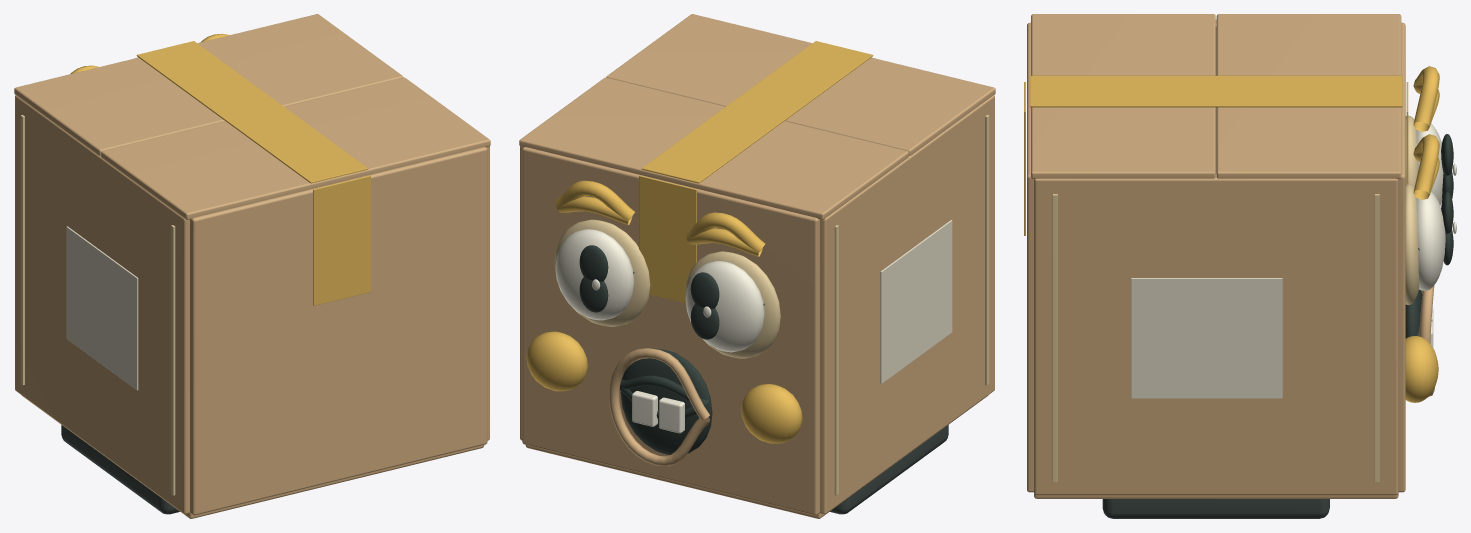
The model's file is hopper.glb.
3 renders of one model, left to right at view 1: azimuth 30°, elevation 25°; view 2: azimuth 150°, elevation 25°; view 3: azimuth 270°, elevation 25°, orthographic. The views are drawn at different scales.
Parts seen in each view (by area): view 1: Surface Kraft cardboard.003, Folded lid.007, Folded lid.006, Surface Ivory paper.003, Surface Hopper ochre.003, Lid tape.007, Lid tape.006, Surface Parcel tape.007, Surface Charcoal rubber.001; view 2: Surface Kraft cardboard.003, Folded lid.006, Folded lid.007, Surface Eye ivory.007, Surface Ivory paper.003, Surface Hopper ochre.002, Surface Hopper ochre.003, Lid tape.006, Lid tape.007, Surface Parcel tape.008, Surface Printed ink.007, Mouth lip.002 (+6 smaller); view 3: Surface Kraft cardboard.003, Folded lid.006, Folded lid.007, Surface Ivory paper.003, Lid tape.006, Lid tape.007, Surface Charcoal rubber.001, Surface Hopper ochre.002, Surface Parcel tape.007, Surface Eye ivory.007, Surface Parcel tape.008, Surface Printed ink.009 (+4 smaller).
Part boxes in pixels (bbox=[...]): Surface Kraft cardboard.003: bbox=[15, 95, 489, 518]; Folded lid.007: bbox=[101, 77, 490, 220]; Folded lid.006: bbox=[14, 14, 403, 155]; Surface Ivory paper.003: bbox=[66, 226, 138, 390]; Surface Hopper ochre.003: bbox=[135, 57, 370, 305]; Lid tape.007: bbox=[223, 104, 367, 183]; Lid tape.006: bbox=[136, 41, 280, 119]; Surface Parcel tape.007: bbox=[20, 115, 175, 495]; Surface Charcoal rubber.001: bbox=[61, 425, 179, 514]; Surface Kraft cardboard.003: bbox=[520, 95, 994, 518]; Folded lid.006: bbox=[519, 77, 908, 220]; Folded lid.007: bbox=[606, 14, 995, 155]; Surface Eye ivory.007: bbox=[555, 229, 764, 433]; Surface Ivory paper.003: bbox=[880, 220, 952, 383]; Surface Hopper ochre.002: bbox=[526, 180, 802, 443]; Surface Hopper ochre.003: bbox=[639, 57, 874, 303]; Lid tape.006: bbox=[642, 104, 785, 183]; Lid tape.007: bbox=[729, 41, 873, 119]; Surface Parcel tape.008: bbox=[554, 219, 780, 358]; Surface Printed ink.007: bbox=[620, 271, 764, 454]; Mouth lip.002: bbox=[609, 348, 709, 466]; Surface Kraft cardboard.003: bbox=[1027, 19, 1405, 498]; Folded lid.006: bbox=[1216, 14, 1401, 179]; Folded lid.007: bbox=[1031, 14, 1215, 179]; Surface Ivory paper.003: bbox=[1131, 278, 1282, 398]; Lid tape.006: bbox=[1216, 75, 1402, 107]; Lid tape.007: bbox=[1030, 75, 1216, 107]; Surface Charcoal rubber.001: bbox=[1102, 499, 1329, 518]; Surface Hopper ochre.002: bbox=[1405, 66, 1439, 402]; Surface Parcel tape.007: bbox=[1052, 194, 1379, 482]; Surface Eye ivory.007: bbox=[1416, 123, 1456, 347]; Surface Parcel tape.008: bbox=[1405, 115, 1419, 304]; Surface Printed ink.009: bbox=[1416, 134, 1453, 336].
Size of the model in its own units: 0.812 by 0.834 by 0.9145.
